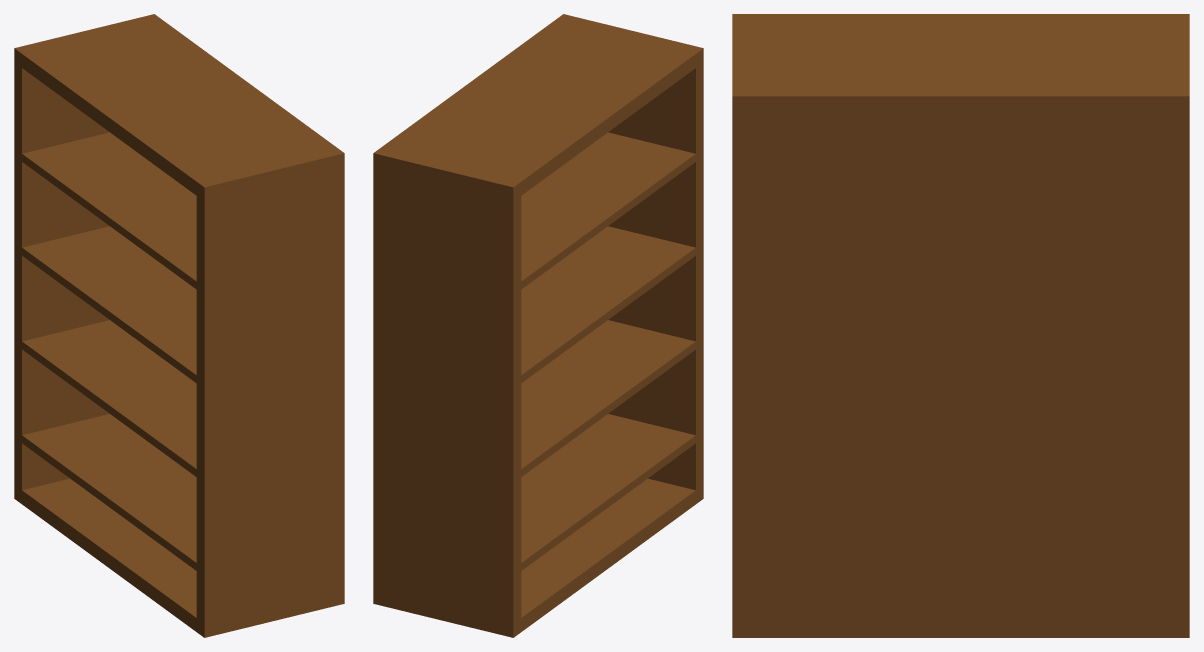
Rendered from shelf_1a.fbx.
3 renders of one model, left to right at view 1: azimuth 30°, elevation 25°; view 2: azimuth 150°, elevation 25°; view 3: azimuth 270°, elevation 25°, orthographic. The views are drawn at different scales.
Visible parts, largest first — view 1: shelf_1a; view 2: shelf_1a; view 3: shelf_1a.
Boxes of the visible parts, x1,y1,x2,y2 form: shelf_1a: (14,14,344,637); shelf_1a: (373,14,703,637); shelf_1a: (732,14,1189,637).
Bounding box in the file's own units: 60.84 × 187 × 143.
